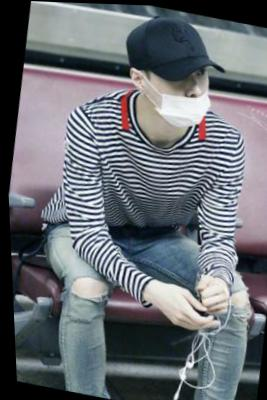WRONG: (152, 58, 214, 131)
